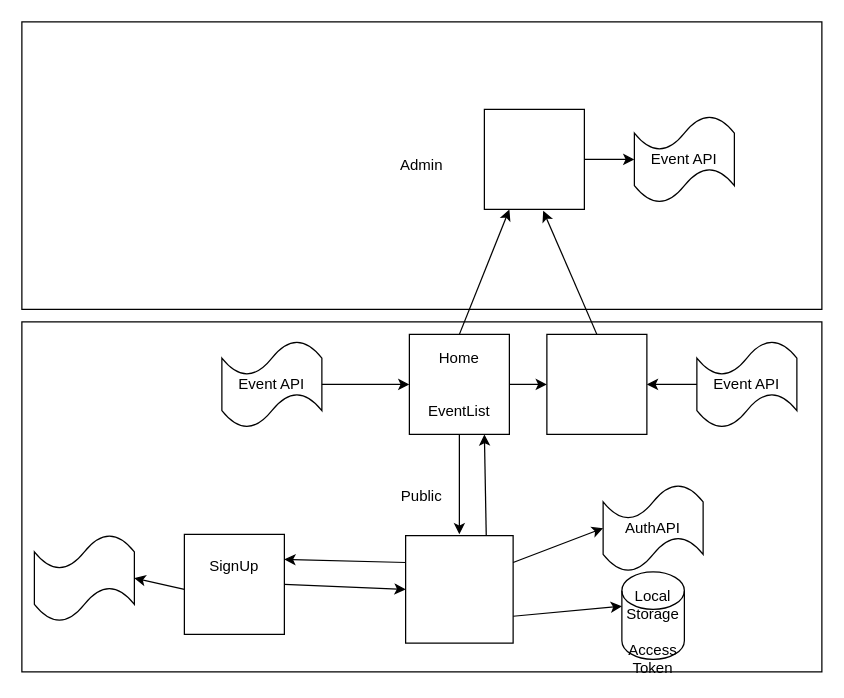
Image size: 844x698. Some labels were removed from this diagram. The centre of each missing label's shape, as x and y in pixels:
"EventCreate" belongs at pixel 533 158.
"EventDetails" belongs at pixel 596 383.
"SignIn" belongs at pixel 458 588.
"UserAPI" belongs at pixel 83 577.
